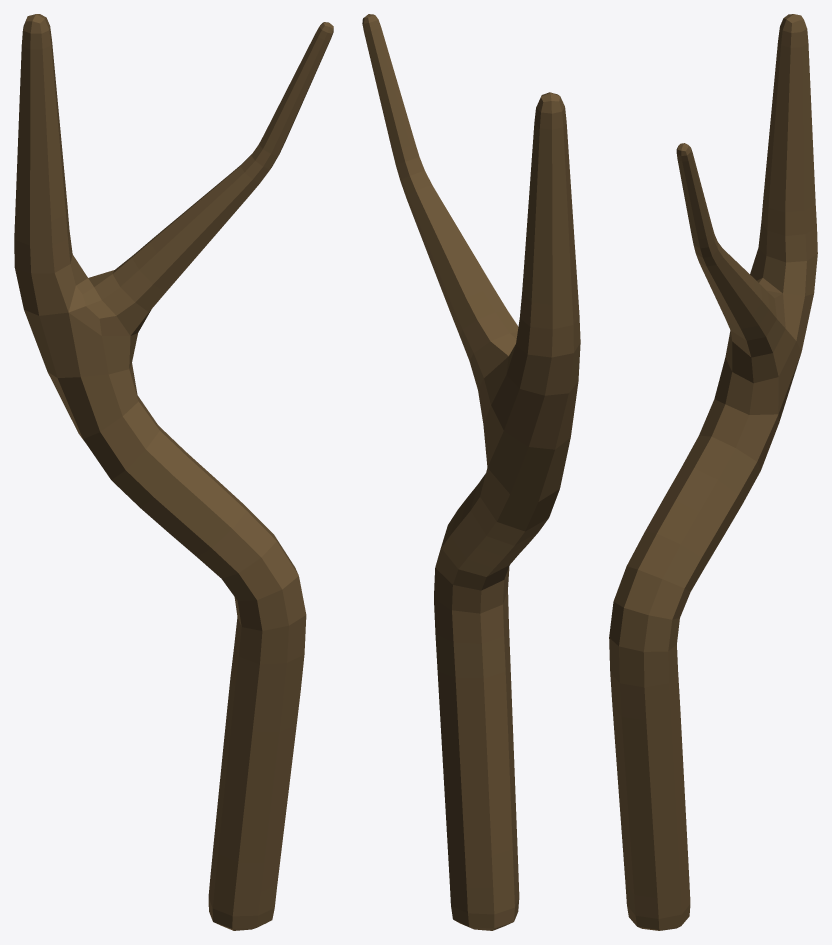
The model's file is RamaP02.fbx.
3 renders of one model, left to right at view 1: azimuth 30°, elevation 25°; view 2: azimuth 150°, elevation 25°; view 3: azimuth 270°, elevation 25°, orthographic. The views are drawn at different scales.
Parts seen in each view (by area): view 1: Plane.002; view 2: Plane.002; view 3: Plane.002.
Boxes of the visible parts, x1,y1,x2,y2 form: Plane.002: [14, 14, 333, 930]; Plane.002: [362, 14, 580, 930]; Plane.002: [609, 14, 817, 930].
Size of the model in its own units: 79.29 by 258 by 57.69.
